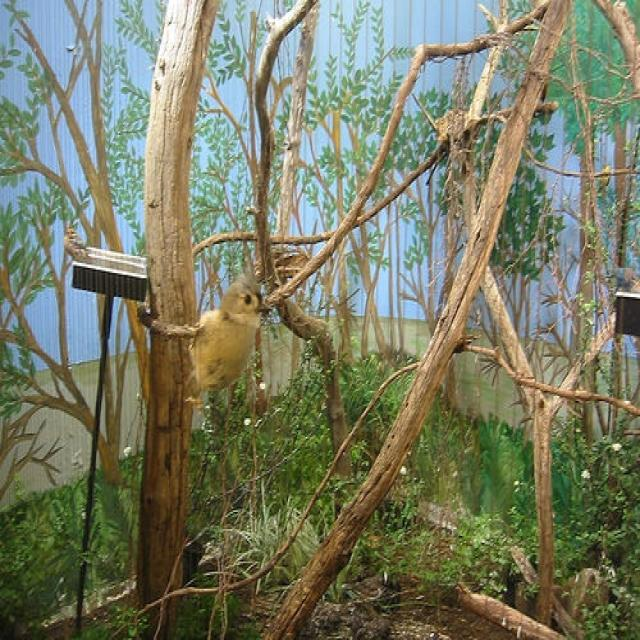bird: (190, 276, 268, 394)
